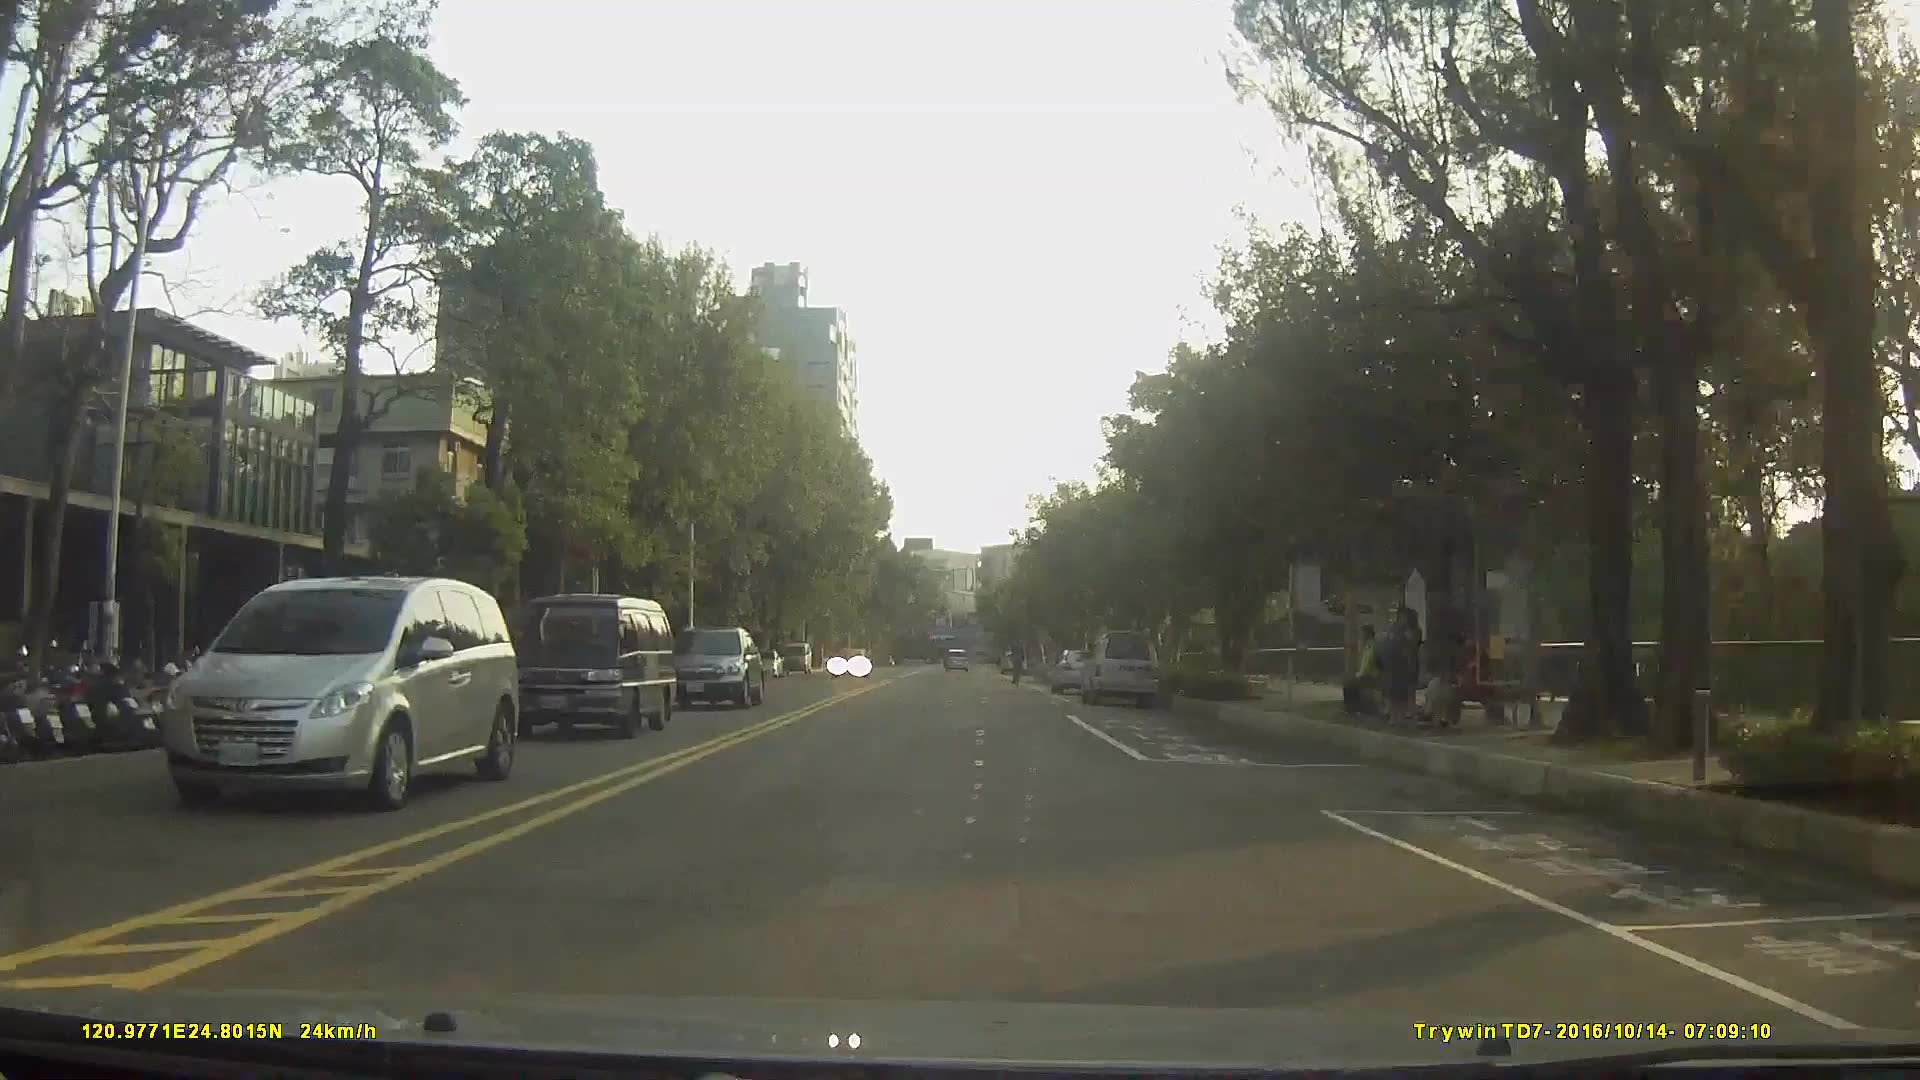pedestrian: (1374, 600, 1428, 726), (1417, 623, 1465, 731), (1341, 622, 1387, 714)
rider: (1009, 632, 1029, 689)
vehicle: (163, 570, 515, 815), (495, 590, 674, 739), (661, 624, 764, 705), (1075, 629, 1161, 705), (1051, 646, 1105, 692), (827, 647, 871, 680), (779, 639, 813, 673), (940, 643, 968, 671)
